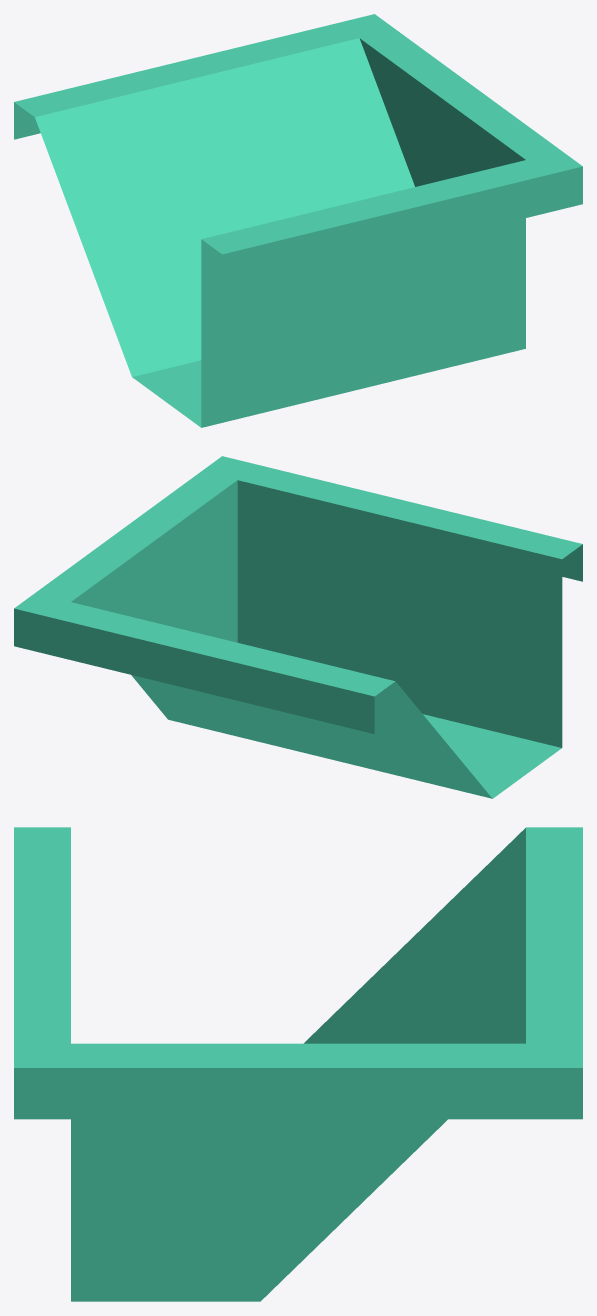
File: Floor_1x1m_A_End.FBX
The picture shows the model from 3 angles, top to bottom: view 1: azimuth 30°, elevation 25°; view 2: azimuth 150°, elevation 25°; view 3: azimuth 270°, elevation 25°; orthographic projection. The views are drawn at different scales.
Visible parts, largest first — view 1: Floor_1x1m_A_End; view 2: Floor_1x1m_A_End; view 3: Floor_1x1m_A_End.
Boxes of the visible parts, x1=… form: Floor_1x1m_A_End: x1=14, y1=14, x2=582, y2=427; Floor_1x1m_A_End: x1=14, y1=456, x2=582, y2=798; Floor_1x1m_A_End: x1=14, y1=827, x2=582, y2=1301.
Size of the model in its own units: 100 by 50 by 100.
